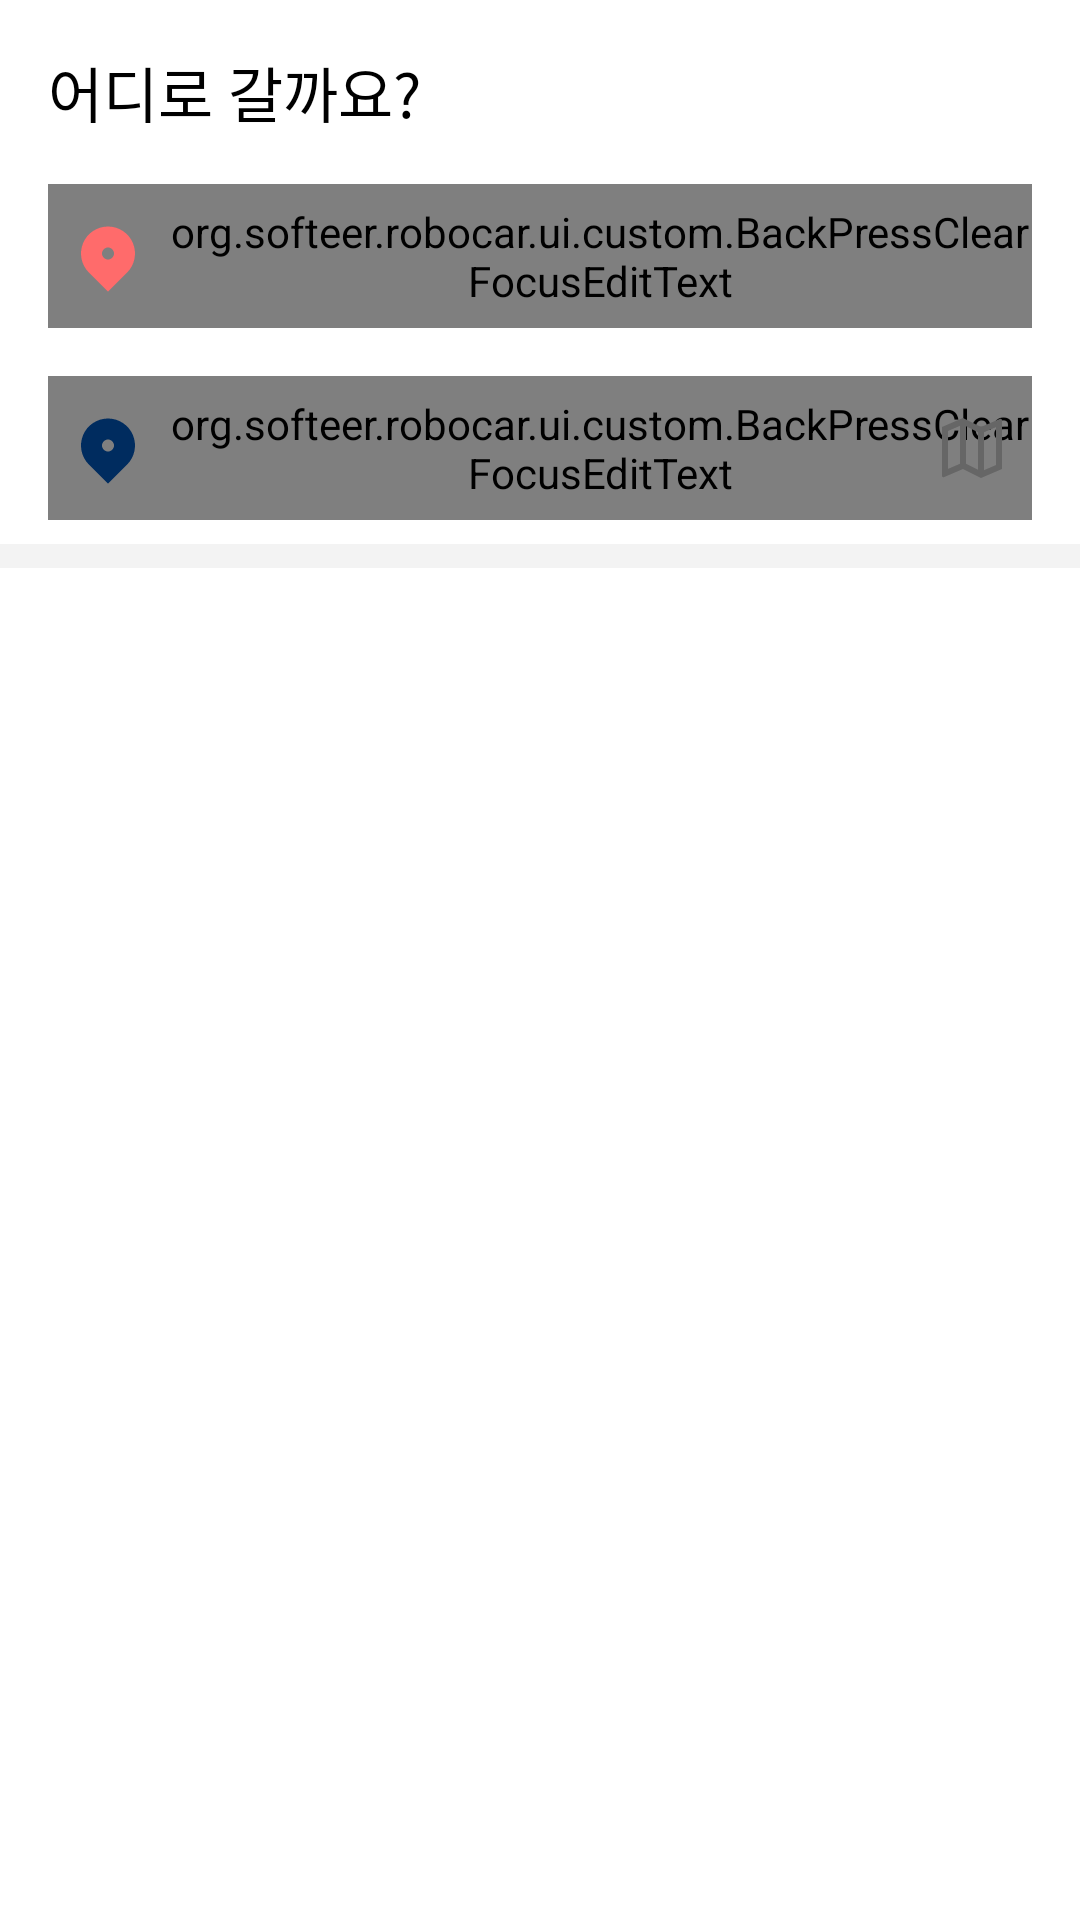

Where to tap for icons on this 1080px×1920px app screen, as point (x, y):
destination location: point (108, 450)
map: point (972, 444)
start location: point (108, 258)
